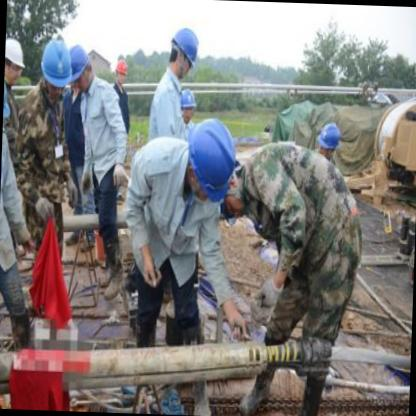helmet: (183, 114, 242, 208), (41, 32, 79, 98), (166, 22, 203, 82), (64, 42, 92, 96), (4, 33, 27, 85), (316, 121, 342, 161), (176, 88, 198, 129), (114, 52, 130, 88)
